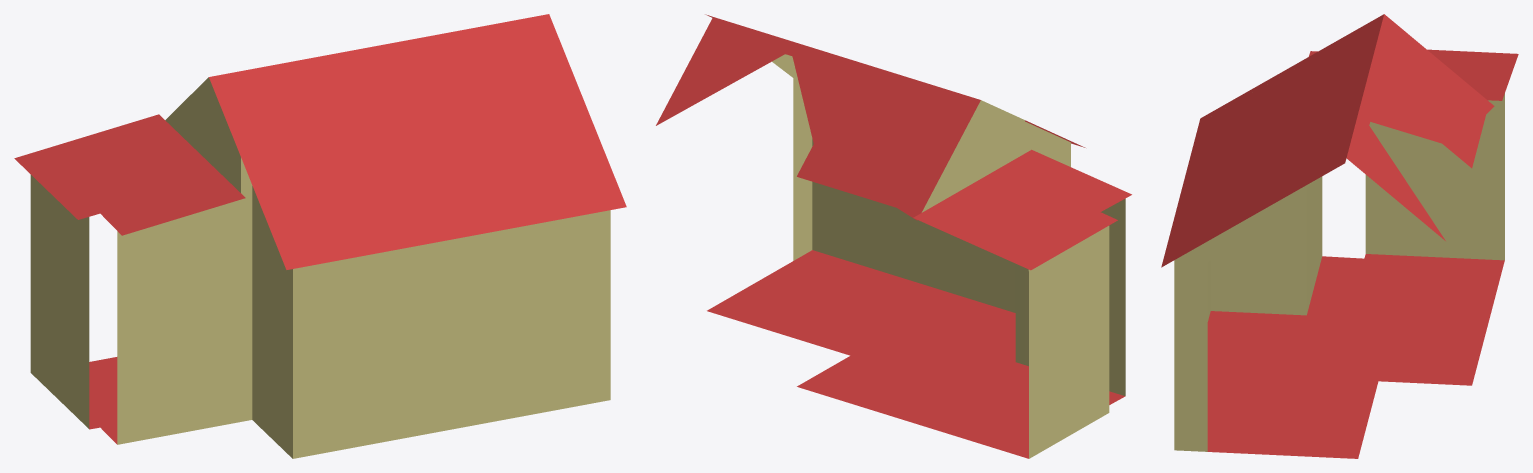
The picture shows the model from 3 angles, left to right: view 1: azimuth 30°, elevation 25°; view 2: azimuth 150°, elevation 25°; view 3: azimuth 270°, elevation 25°; orthographic projection. The views are drawn at different scales.
Size of the model in its own units: 21.6 by 15.22 by 14.1.
